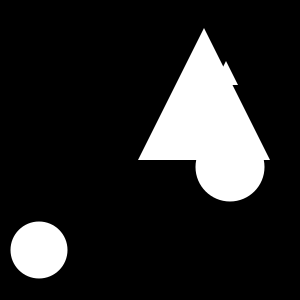rectangle: (196, 132, 264, 202), (11, 222, 68, 278)
triangle: (138, 28, 270, 160), (214, 61, 238, 85)
